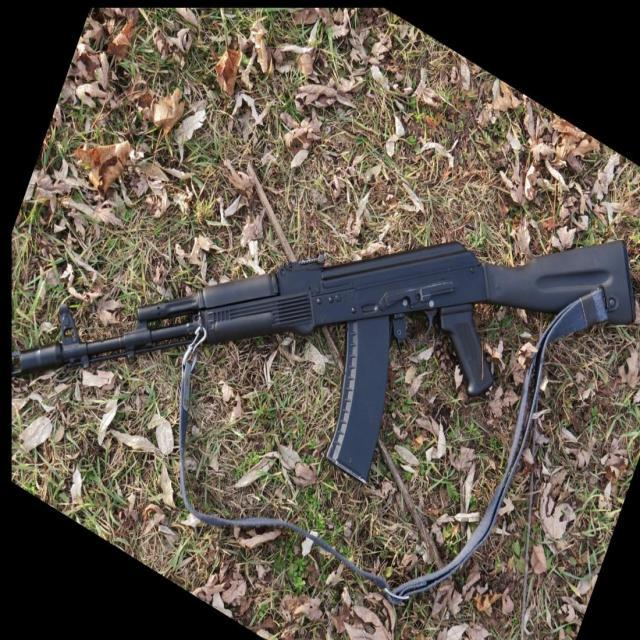weapon: (11, 238, 640, 484)
